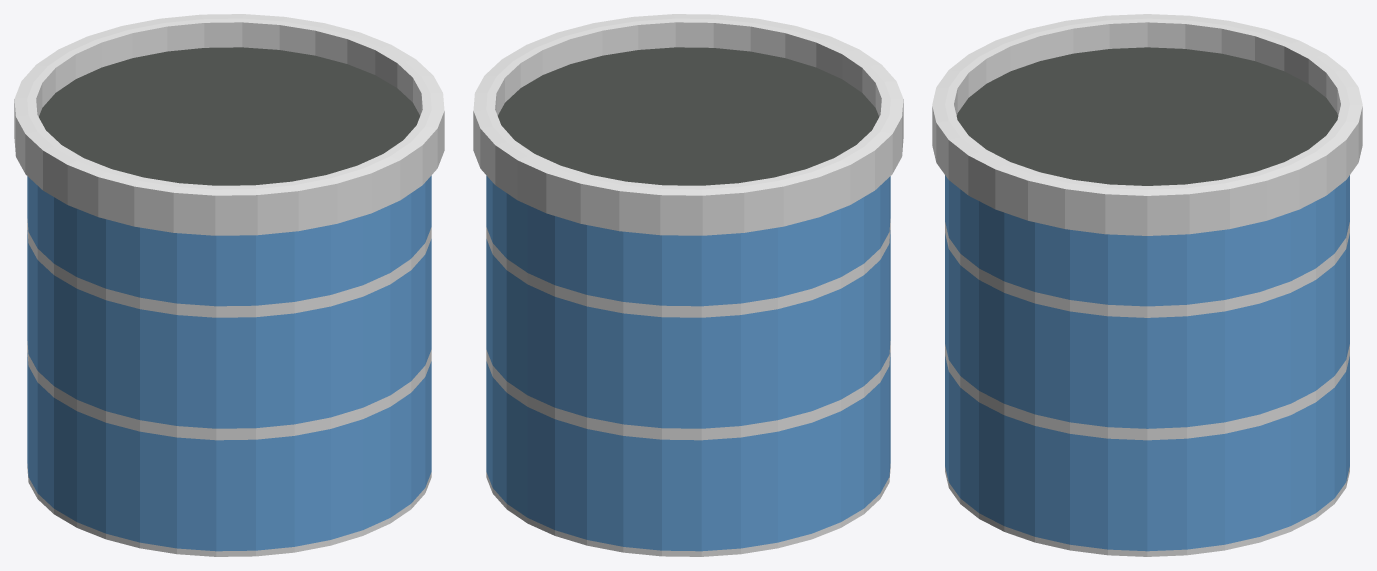
The model's file is building_1x1_0_r.glb.
3 views of the same model, side by side, from view 1: azimuth 30°, elevation 25°; view 2: azimuth 150°, elevation 25°; view 3: azimuth 270°, elevation 25° (orthographic).
Parts seen in each view (by area): view 1: Cylinder.002; view 2: Cylinder.002; view 3: Cylinder.002.
Part boxes in pixels (<box>): Cylinder.002: <box>14,14,444,556</box>; Cylinder.002: <box>473,14,903,556</box>; Cylinder.002: <box>932,14,1362,556</box>.
Bounding box in the file's own units: 1.7 × 1.6 × 1.7.
